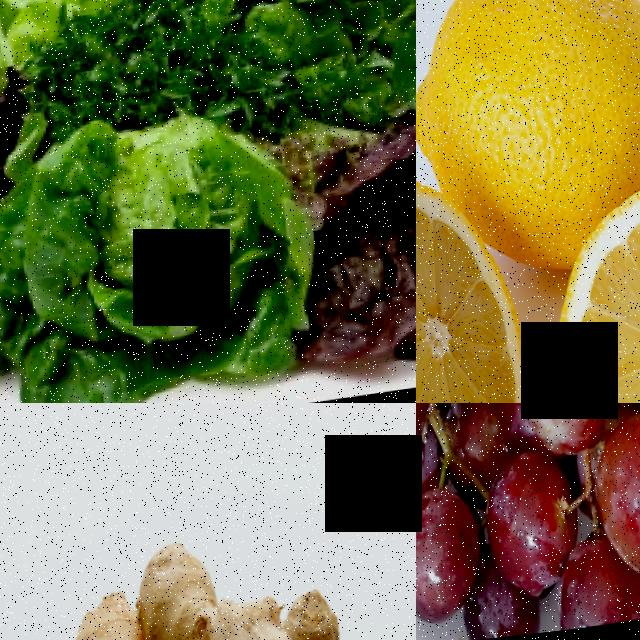ginger: (32, 509, 416, 640)
lemon: (416, 0, 640, 223)
lettuce: (0, 106, 312, 403), (205, 0, 416, 134)
peanuts: (416, 403, 640, 640)
